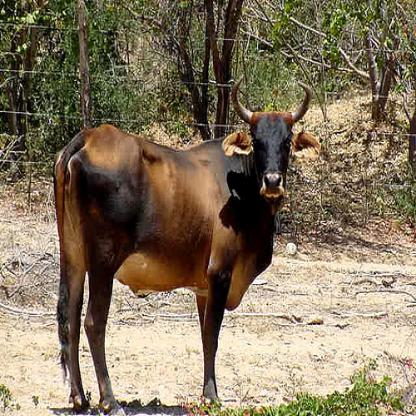cow: (54, 73, 312, 414)
